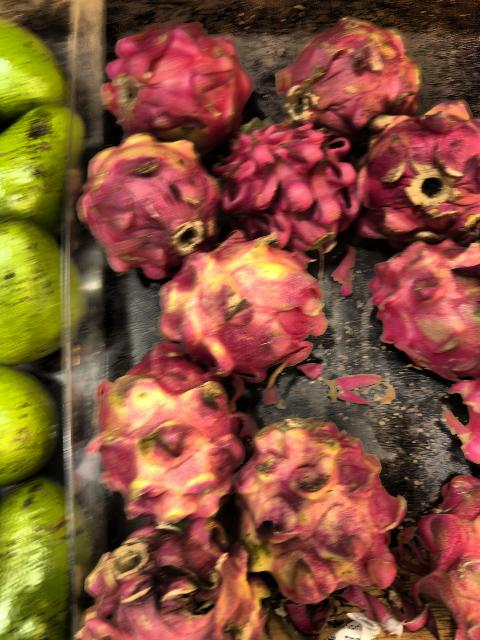buah-naga-belum-matang: (226, 404, 400, 600), (90, 342, 238, 516), (165, 233, 319, 375), (87, 516, 257, 640), (82, 128, 216, 266), (356, 106, 480, 248), (366, 242, 480, 384), (280, 18, 427, 122), (412, 469, 480, 639)
buah-naga-matang: (212, 120, 364, 254), (102, 25, 268, 147)
